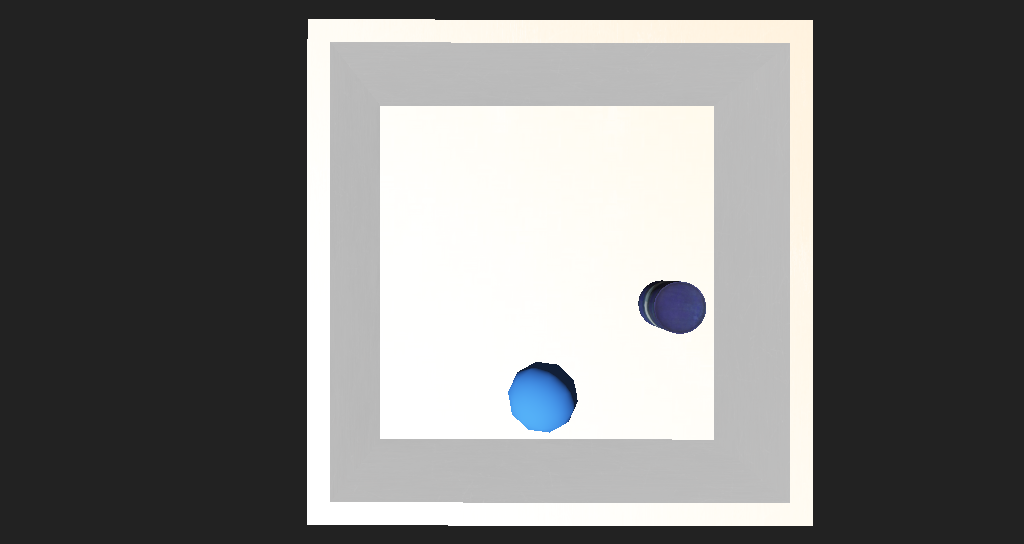cone: (589, 274, 650, 308)
cylinder: (367, 21, 441, 93)
sphere: (465, 327, 532, 370)
